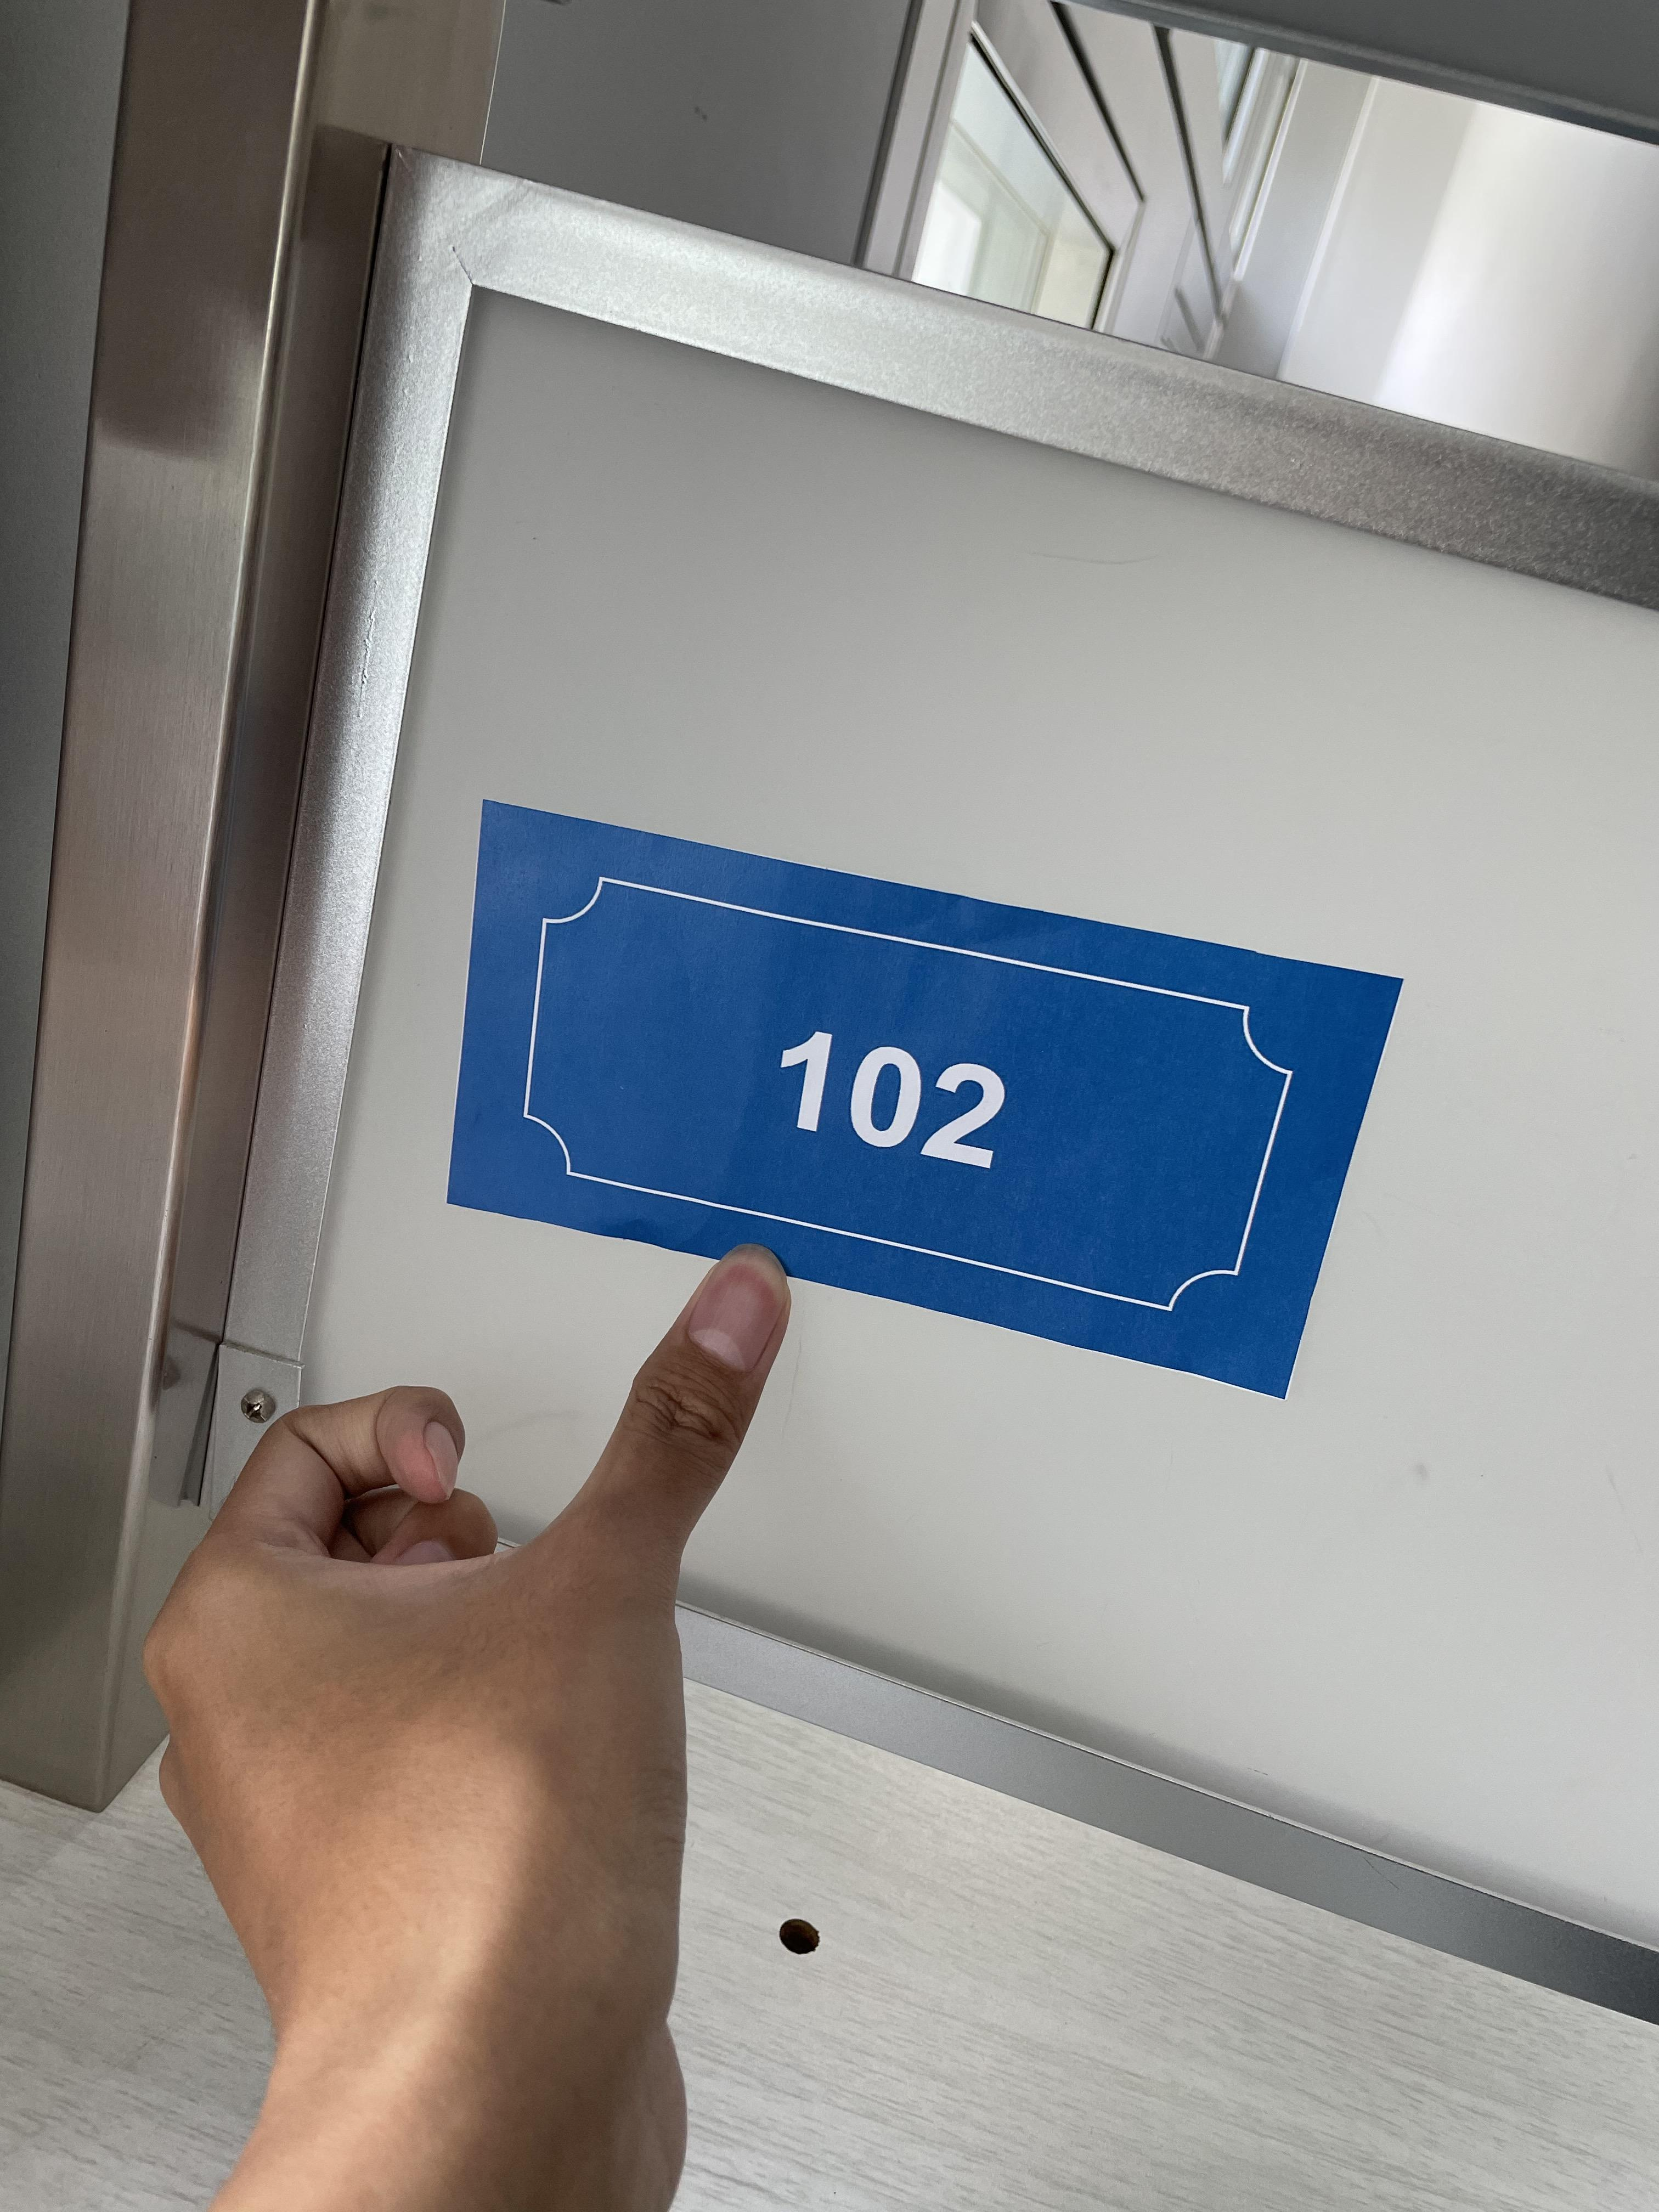Card: (423, 747, 1438, 1474)
